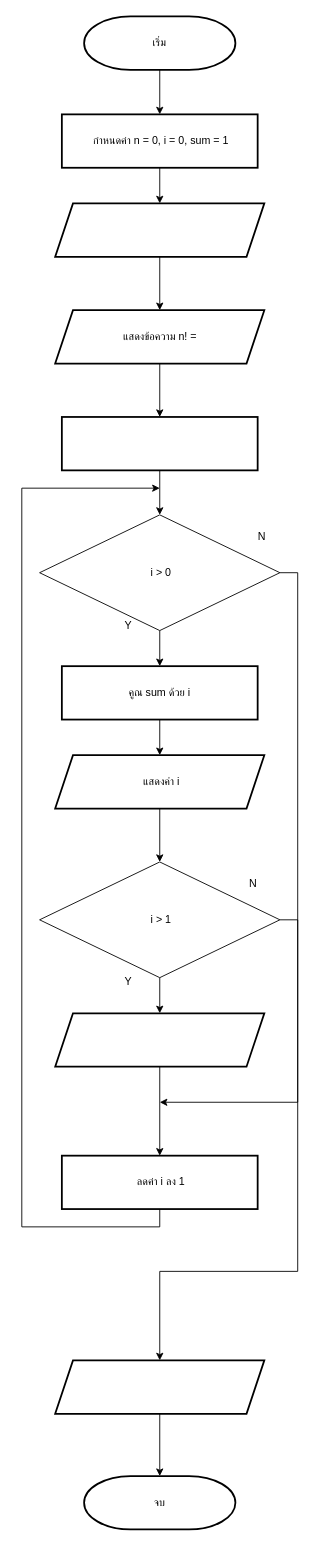
The diagram is 320 pixels wide and 1545 high, and some of its shapes have lost their labels. Here are the shapes that lost their labels. From the top down, the centre of each, then its label:
pixel 159 229: รับค่า n จากผู้ใช้
pixel 159 443: กำหนดค่า i = n
pixel 159 1039: พิมพ์ "x"
pixel 159 1386: แสดงผลลัพธ์ n! = sum
